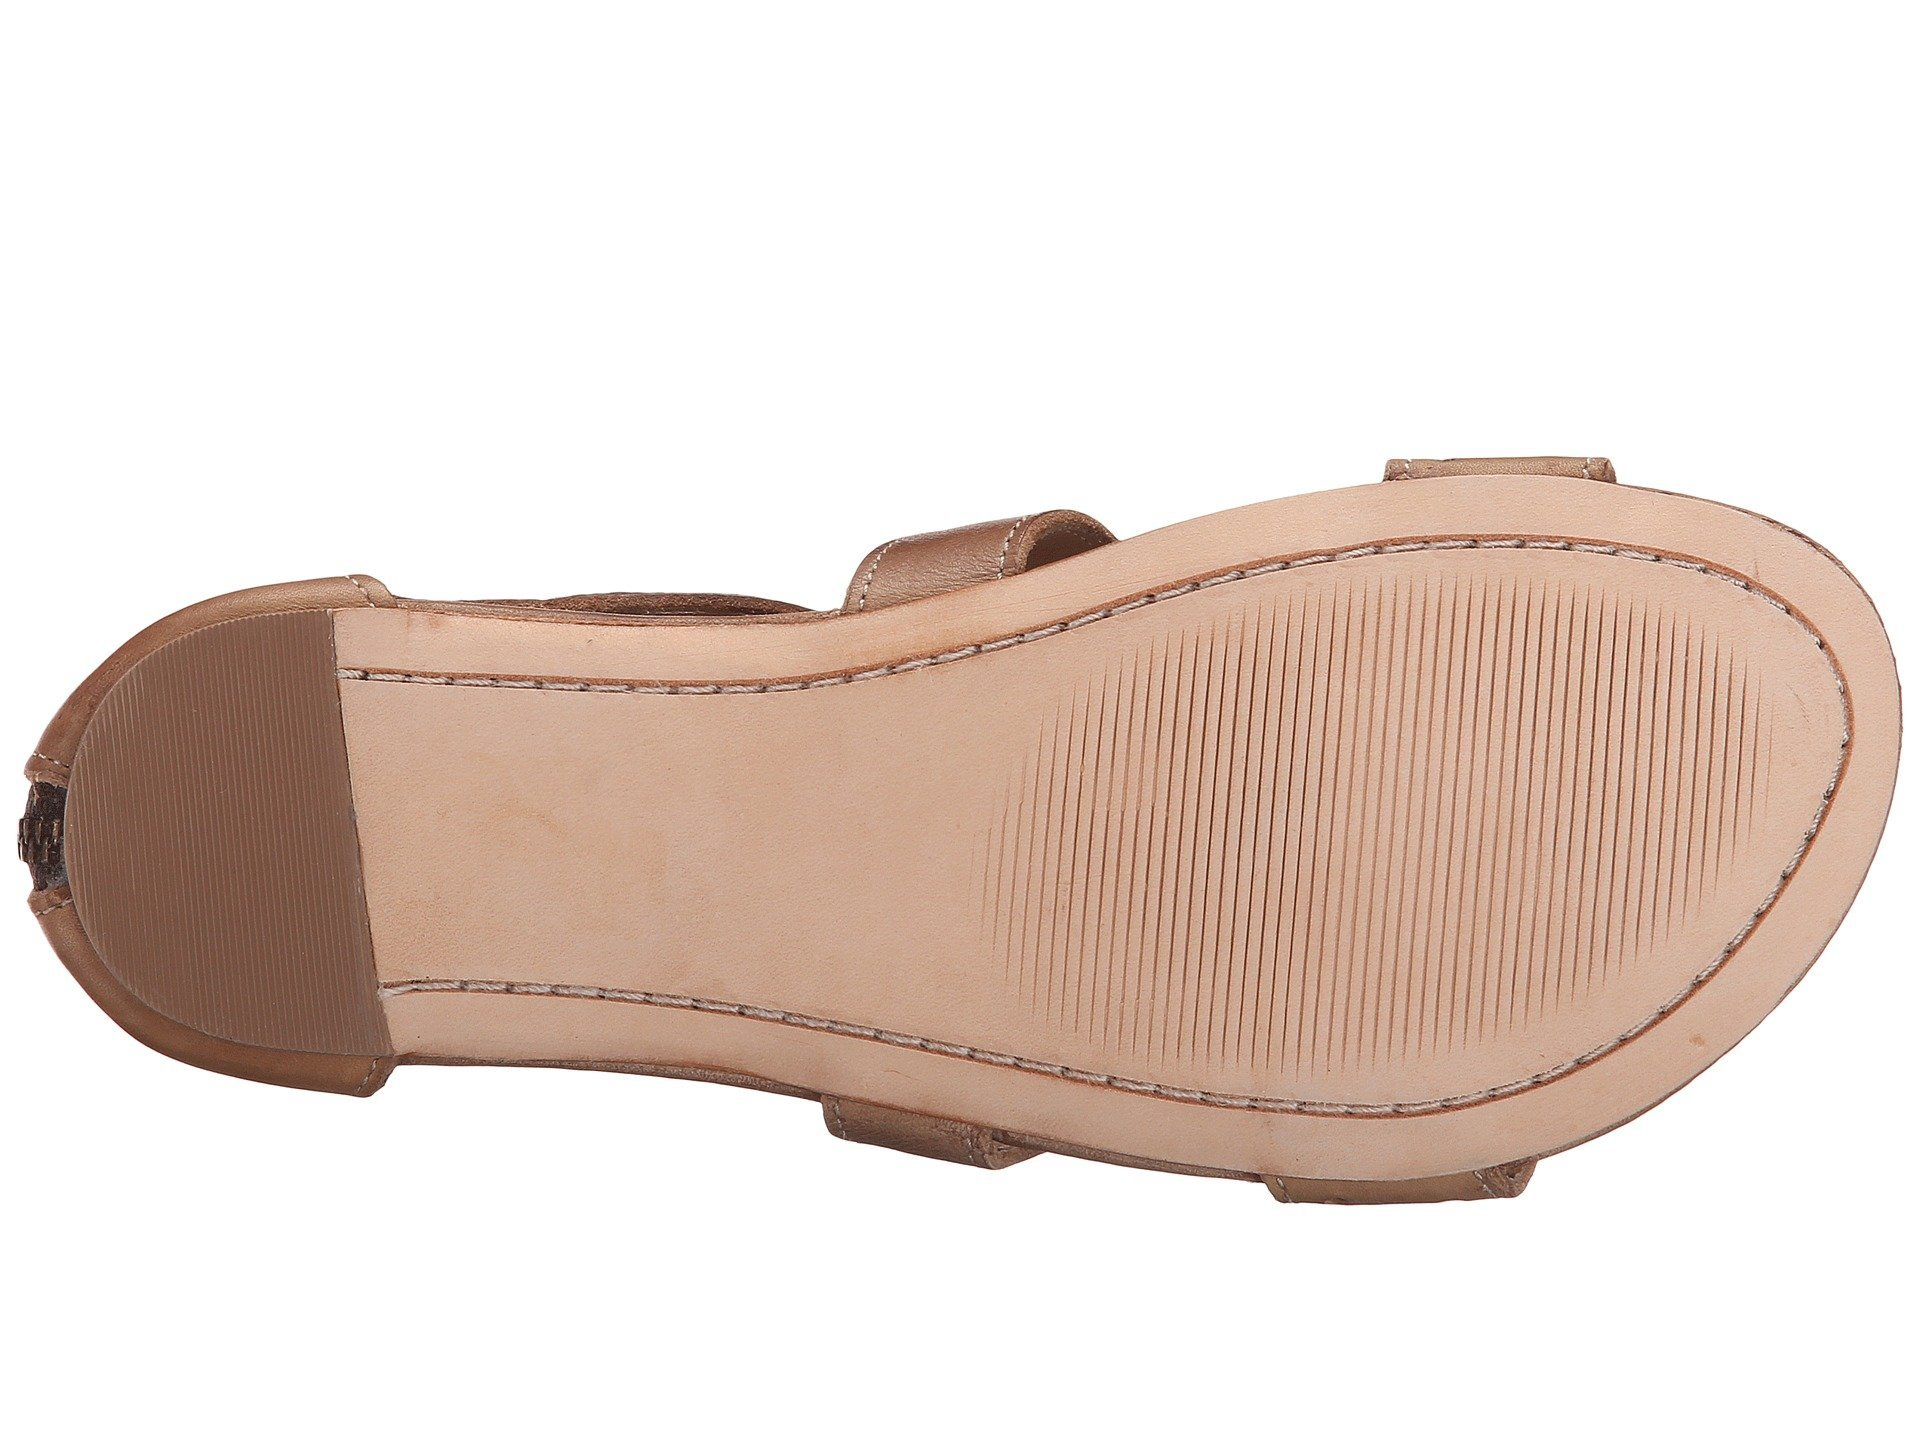line: (1046, 685, 1643, 989), (458, 965, 1023, 1082), (118, 740, 317, 970)
